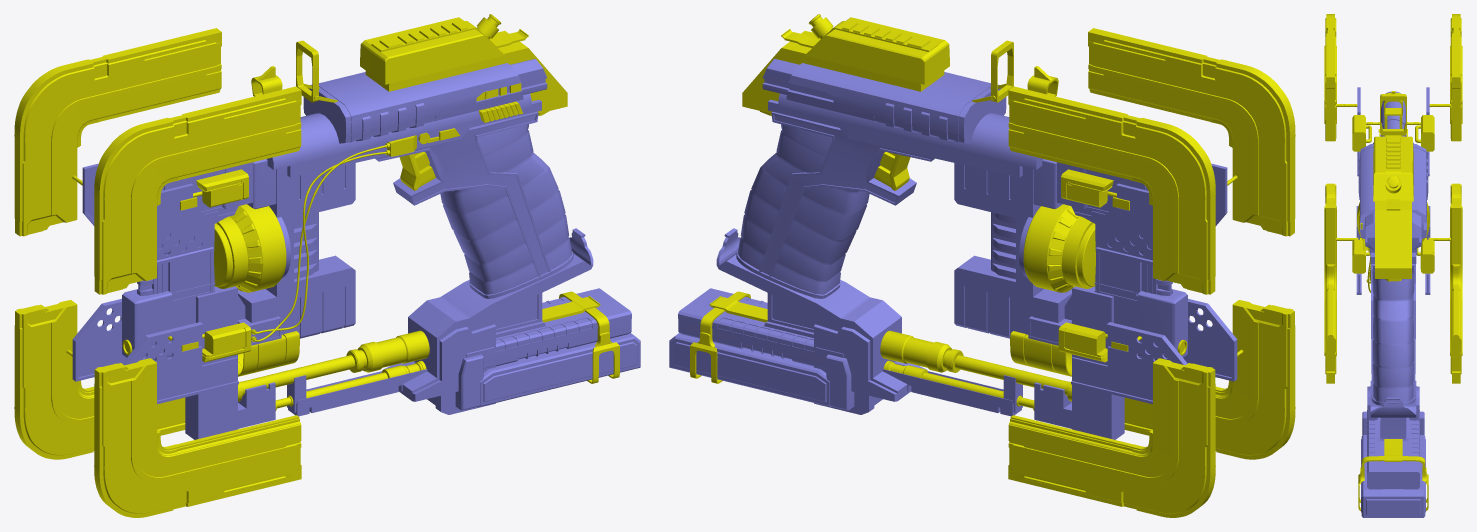
File: Plasma_Cutter_Low.fbx
The picture shows the model from 3 angles, left to right: view 1: azimuth 30°, elevation 25°; view 2: azimuth 150°, elevation 25°; view 3: azimuth 270°, elevation 25°; orthographic projection. The views are drawn at different scales.
Parts seen in each view (by area): view 1: polySurface173, polySurface90, polySurface175, polySurface137, polySurface174, polySurface99, polySurface138, polySurface129, polySurface94, polySurface128, polySurface145, polySurface139 (+28 smaller); view 2: polySurface90, polySurface173, polySurface174, polySurface137, polySurface175, polySurface99, polySurface138, polySurface129, polySurface94, polySurface128, polySurface145, polySurface139 (+29 smaller); view 3: polySurface137, polySurface119, polySurface134, polySurface174, polySurface175, polySurface128, polySurface99, polySurface139, polySurface90, polySurface173, polySurface138, polySurface98 (+18 smaller).
Boxes of the visible parts, x1,y1,x2,y2 form: polySurface173: (14,28,221,236); polySurface90: (94,86,301,294); polySurface175: (94,358,301,517); polySurface137: (440,124,572,298); polySurface174: (14,300,185,459); polySurface99: (303,63,523,143); polySurface138: (382,228,593,401); polySurface129: (281,163,355,338); polySurface94: (375,111,550,276); polySurface128: (478,333,640,407); polySurface145: (214,204,286,292); polySurface139: (360,17,504,84); polySurface90: (1088,28,1295,236); polySurface173: (1008,86,1215,294); polySurface174: (1008,358,1215,517); polySurface137: (737,124,869,298); polySurface175: (1124,300,1295,459); polySurface99: (786,63,1006,143); polySurface138: (716,228,927,401); polySurface129: (954,163,1028,338); polySurface94: (759,111,934,276); polySurface128: (669,333,831,407); polySurface145: (1023,204,1095,292); polySurface139: (805,17,949,84); polySurface137: (1372,270,1414,406); polySurface119: (1375,200,1411,278); polySurface134: (1367,410,1419,489); polySurface174: (1450,183,1462,383); polySurface175: (1324,183,1336,383); polySurface128: (1361,435,1425,517); polySurface99: (1358,144,1428,238); polySurface139: (1373,136,1413,201); polySurface90: (1324,14,1336,141); polySurface173: (1450,14,1462,141); polySurface138: (1367,380,1419,421); polySurface98: (1377,417,1409,441).
Bounding box in the file's own units: 39.22 × 25.86 × 10.53.
